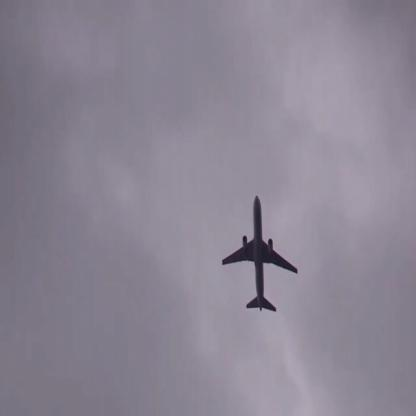CIV_Plane: (220, 194, 298, 310)
